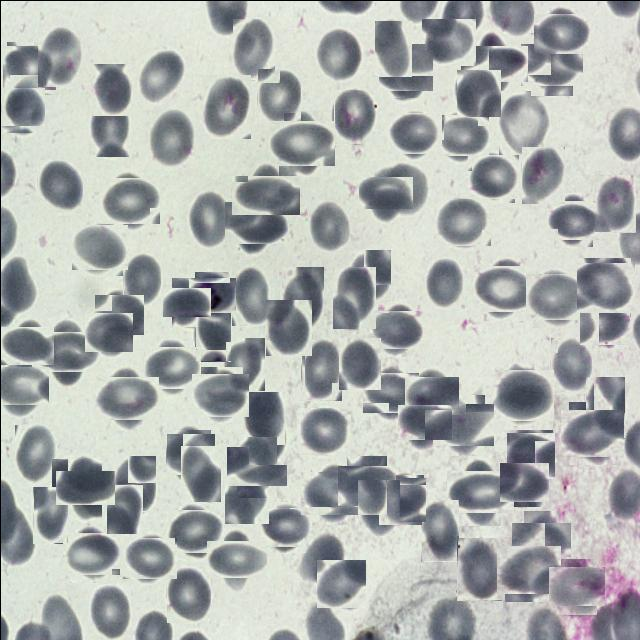red blood cell: (499, 540, 556, 597), (498, 90, 548, 154), (272, 114, 328, 170), (494, 366, 550, 422), (564, 404, 620, 460), (202, 74, 250, 138), (38, 324, 93, 379), (476, 260, 530, 315), (578, 259, 632, 314), (452, 464, 506, 518), (99, 370, 153, 424), (528, 270, 582, 324), (238, 168, 292, 222), (102, 173, 156, 226), (305, 466, 359, 519), (524, 37, 578, 90), (456, 537, 501, 600), (228, 196, 282, 248), (436, 195, 488, 248), (436, 398, 488, 451), (468, 37, 520, 90), (224, 460, 268, 522), (148, 108, 194, 167), (36, 26, 80, 87), (332, 266, 375, 328), (281, 266, 323, 329), (314, 26, 362, 81), (168, 506, 220, 556), (265, 299, 311, 355), (232, 18, 274, 79), (297, 406, 348, 456), (300, 338, 341, 400), (421, 18, 475, 65), (166, 565, 210, 622), (88, 583, 132, 640), (231, 264, 272, 325), (146, 342, 196, 392), (66, 528, 116, 578), (74, 222, 124, 272), (195, 370, 245, 420), (231, 441, 281, 491), (187, 189, 230, 247), (521, 144, 564, 202), (36, 159, 82, 213), (138, 48, 184, 102), (584, 376, 624, 438), (256, 68, 300, 124), (342, 460, 391, 510), (14, 424, 56, 482), (88, 98, 130, 156), (593, 174, 635, 232), (211, 534, 260, 583), (4, 43, 53, 92), (537, 9, 586, 58), (316, 559, 365, 608), (333, 89, 376, 144), (420, 499, 458, 561), (366, 367, 414, 416), (113, 455, 155, 511), (220, 337, 264, 390), (549, 337, 591, 392), (357, 479, 399, 534), (468, 152, 516, 200), (125, 534, 173, 582), (436, 110, 484, 158), (390, 109, 438, 157), (376, 475, 424, 523), (381, 46, 429, 94), (552, 562, 600, 610), (382, 160, 426, 212), (347, 249, 390, 302), (307, 199, 349, 253), (506, 430, 554, 477), (180, 445, 220, 501), (242, 391, 284, 444), (517, 516, 564, 563), (61, 464, 108, 511), (338, 337, 380, 389), (550, 195, 596, 242), (373, 306, 420, 352), (581, 299, 627, 346), (51, 458, 87, 517), (262, 504, 308, 550), (3, 322, 49, 368), (408, 372, 454, 418), (0, 362, 44, 410), (424, 256, 464, 308), (374, 20, 411, 76), (166, 431, 212, 476), (456, 69, 500, 116), (122, 252, 160, 306), (95, 292, 141, 336), (0, 87, 44, 133), (32, 486, 67, 543), (502, 459, 546, 504), (92, 63, 130, 115), (302, 537, 344, 584), (194, 307, 230, 361), (402, 400, 446, 444), (86, 310, 130, 354), (364, 170, 407, 214), (248, 416, 286, 464), (106, 482, 142, 532), (166, 282, 205, 321)
trophozoite: (192, 274, 232, 316)
